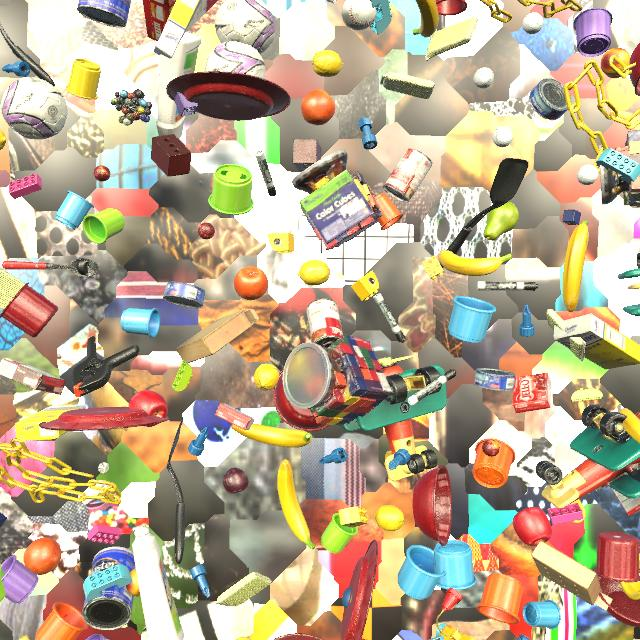ycb_002_master_chef_can: (81, 546, 136, 630), (77, 0, 131, 28)
ycb_003_cracker_box: (143, 0, 218, 42), (362, 638, 366, 640)
ycb_004_sugar_box: (554, 314, 640, 370), (154, 0, 202, 59), (15, 404, 86, 441)
ycb_005_tomato_soup_can: (383, 148, 432, 203), (306, 299, 344, 350)
ycb_006_mustard_bottle: (19, 635, 30, 640), (235, 637, 252, 640)
ycb_007_tuna_fish_can: (529, 78, 571, 120), (163, 281, 205, 308), (474, 368, 515, 391)
ycb_008_pudding_box: (0, 358, 66, 395)
ycb_009_gelatin_box: (512, 372, 551, 413), (611, 467, 640, 515), (214, 403, 255, 430)
ycb_011_banana: (277, 459, 316, 549), (562, 220, 589, 312), (231, 423, 312, 448), (439, 250, 512, 276), (413, 0, 439, 38), (618, 408, 640, 443)
ycb_013_apple: (513, 507, 552, 546), (128, 390, 168, 427)
ycb_014_lemon: (312, 50, 344, 77), (298, 260, 330, 285), (374, 505, 404, 531), (254, 364, 279, 391), (0, 130, 6, 150)
ycb_015_peach: (600, 48, 631, 78), (126, 568, 140, 596)
ycb_016_pear: (483, 202, 519, 241)
ycb_017_orange: (24, 537, 61, 575), (301, 89, 336, 125), (234, 267, 268, 300)
ycb_018_plum: (223, 468, 249, 494)
